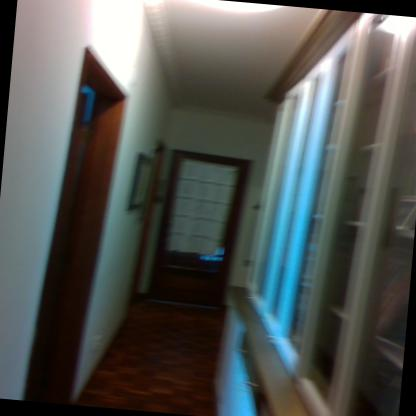closed: (142, 146, 260, 322)
